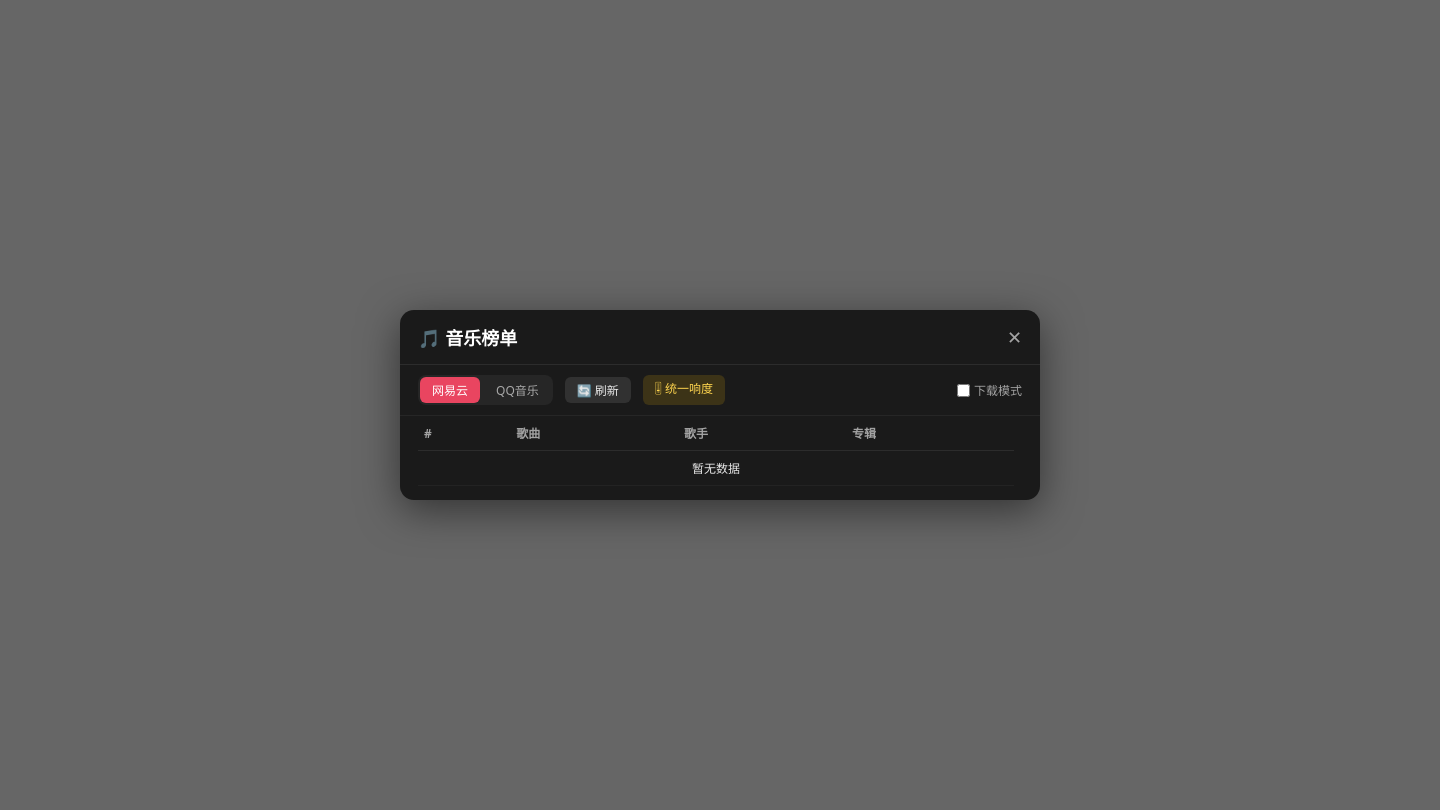
Test: Charts.vue › 开启下载模式后显示手动下载按钮
Click the checkbox labelled "下载模式" at (964, 390), box [957,384,970,396]
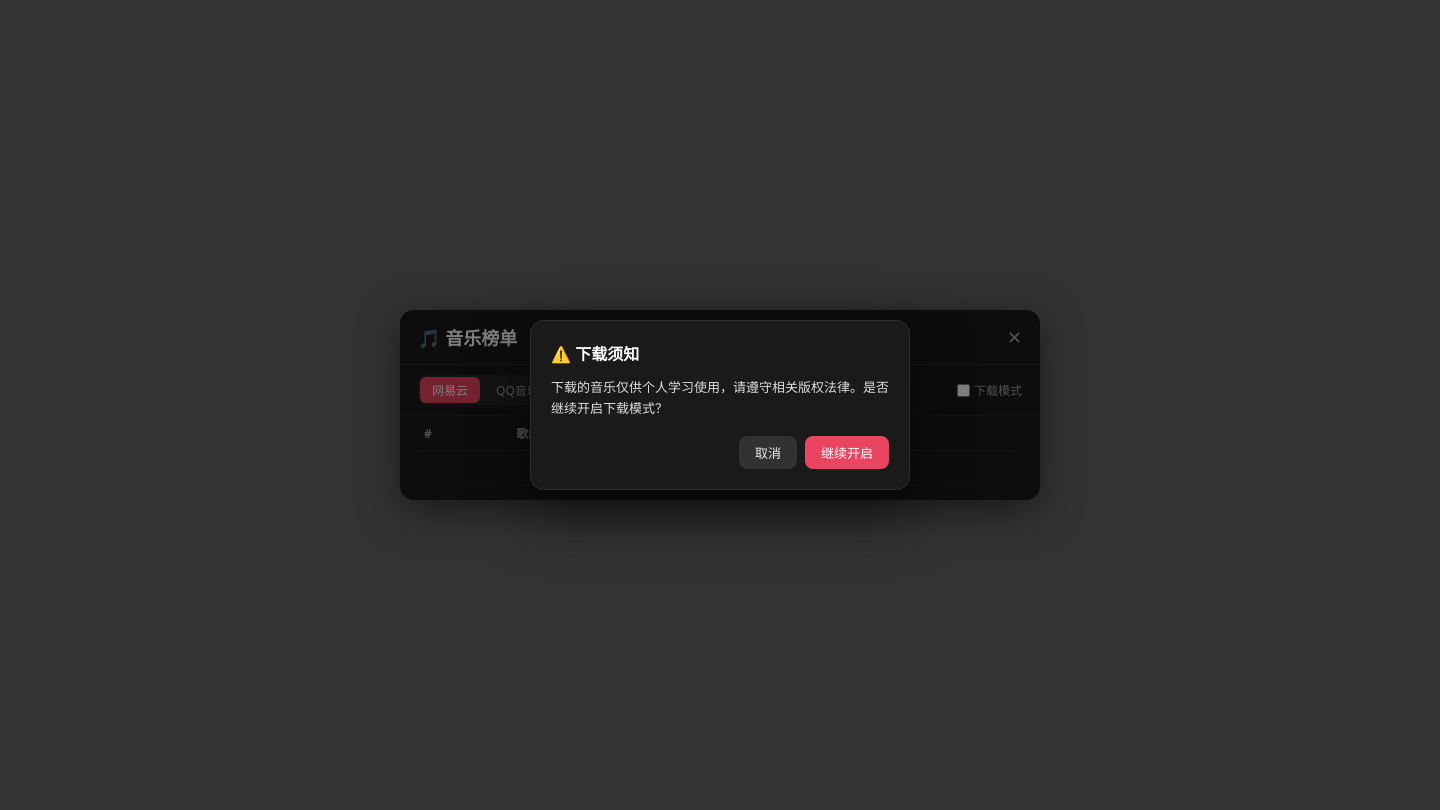
Now the dialog with class "charts-disclaimer" is shown, box [530,320,910,490]
Click the button with class "charts-disclaimer__btn--confirm" at (847, 453), box [805,436,889,469]
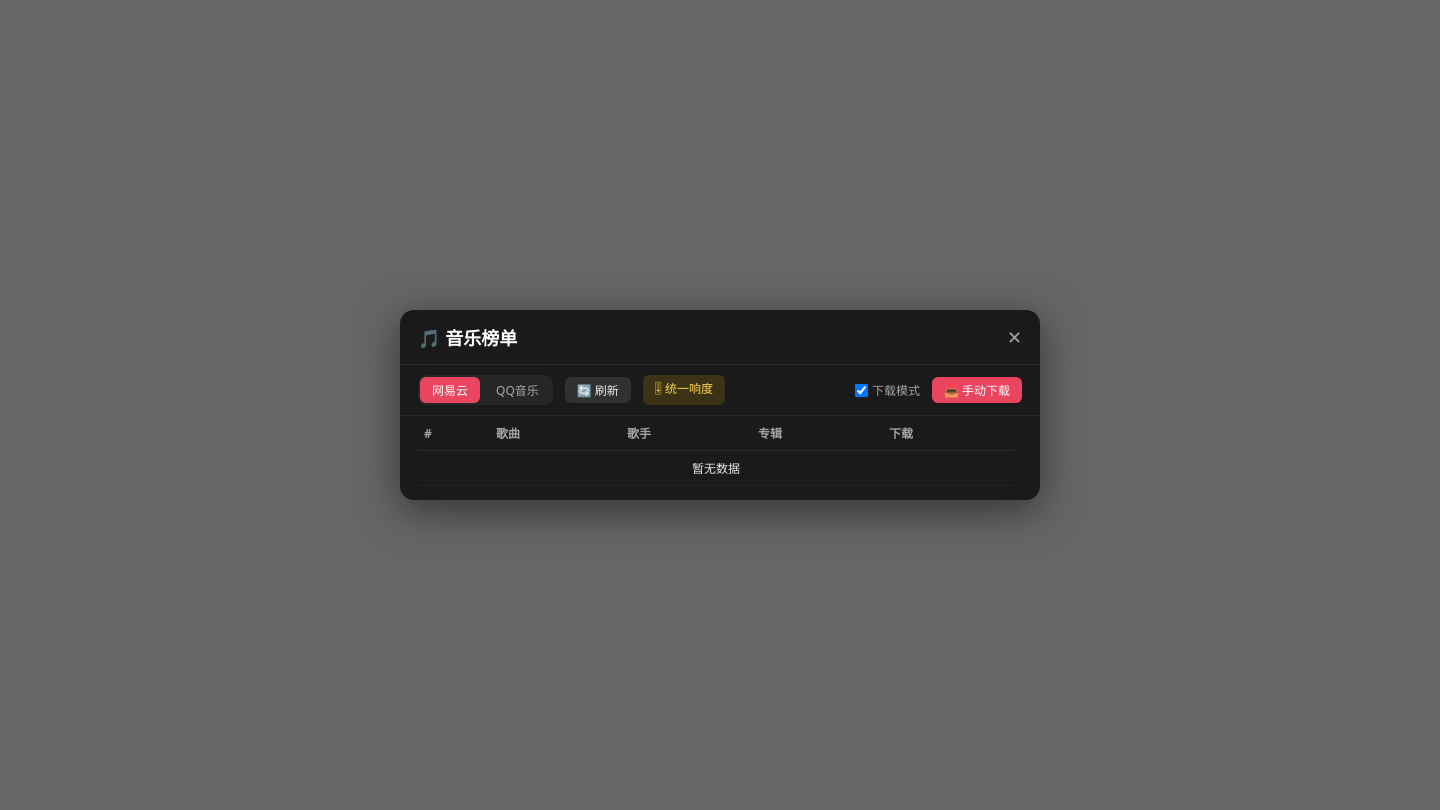
Now the button with class "charts-manual-download-btn" reads "📥 手动下载", box [932,377,1022,403]
